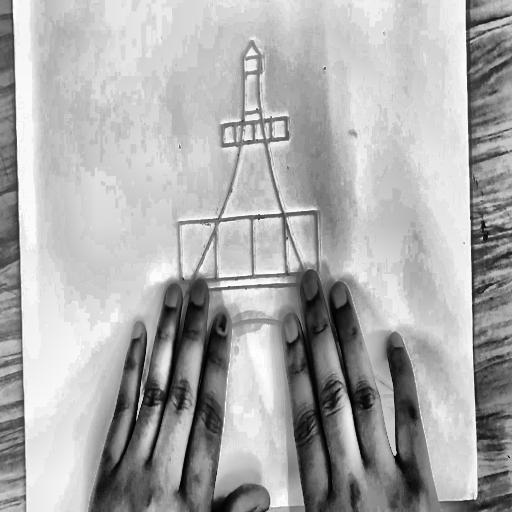bottom_right: (474, 492, 480, 503)
eiffel-tower: (95, 14, 415, 449)
